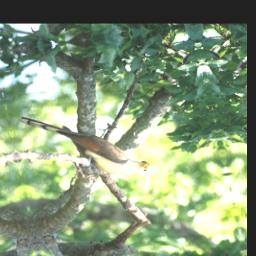Cuckoo: (16, 97, 155, 190)
